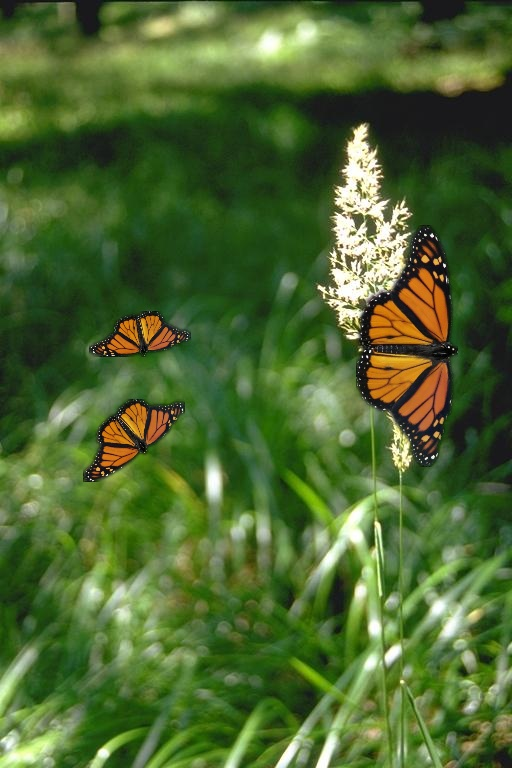danaus_plexippus: (356, 225, 458, 467), (83, 399, 185, 482), (89, 311, 191, 357)
